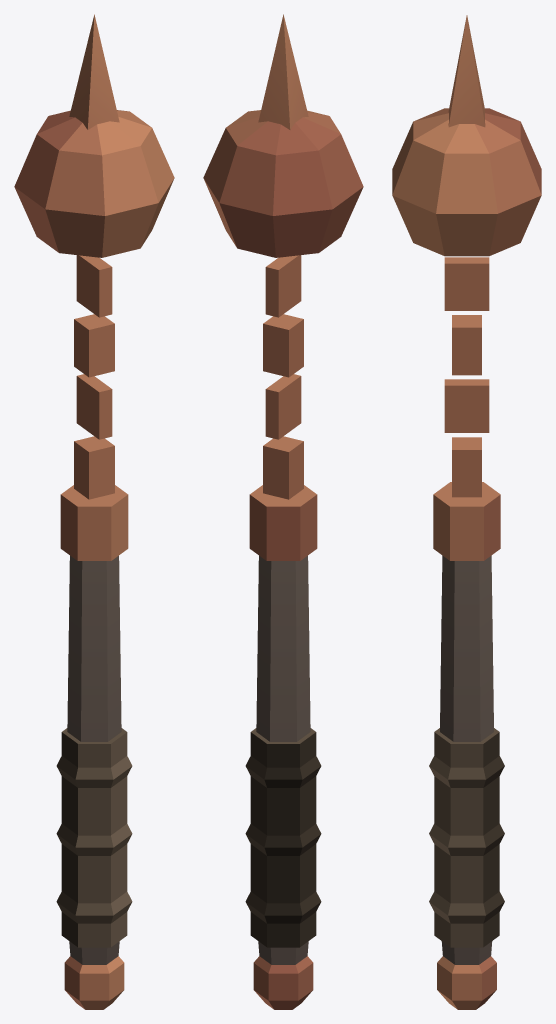
Rendered from knight_flail_0.gltf.
3 renders of one model, left to right at view 1: azimuth 30°, elevation 25°; view 2: azimuth 150°, elevation 25°; view 3: azimuth 270°, elevation 25°, orthographic.
Parts seen in each view (by area): view 1: knight_flail_0; view 2: knight_flail_0; view 3: knight_flail_0.
Part boxes in pixels (x1,y1,x2,y2): knight_flail_0: [14, 14, 174, 1009]; knight_flail_0: [203, 14, 363, 1009]; knight_flail_0: [392, 15, 541, 1009].
Bounding box in the file's own units: 0.1996 × 1.46 × 0.1996.
Materials: 1 (1 with a texture image).
